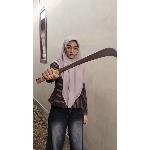Golok: (39, 42, 118, 86)
